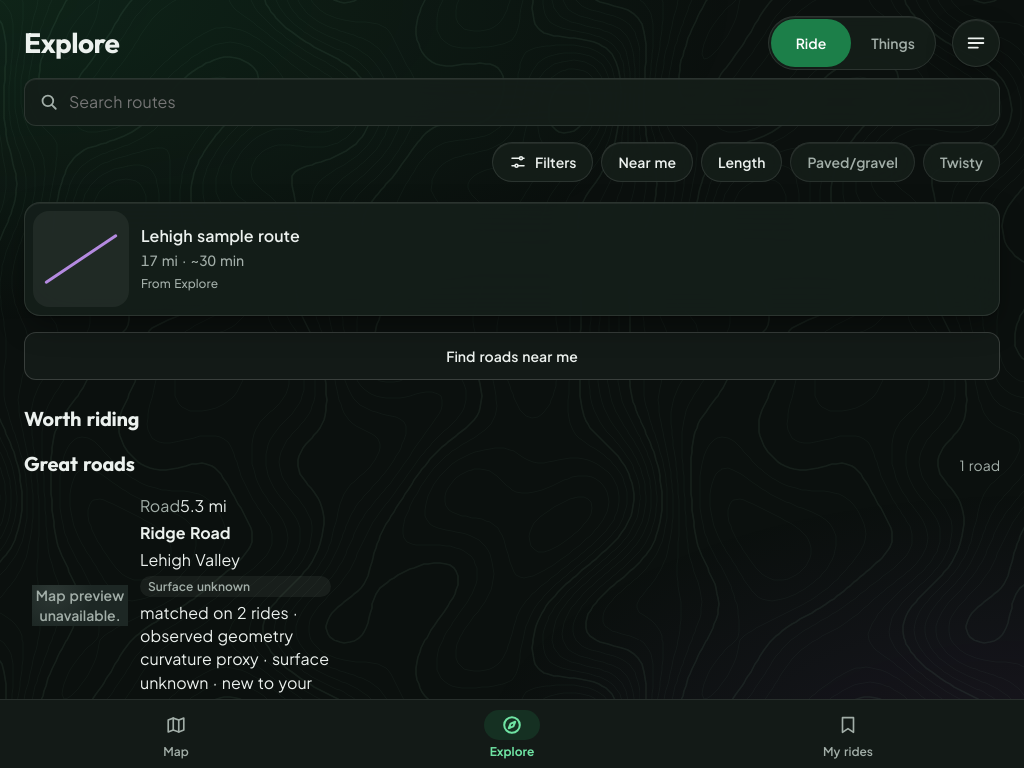
Test case: Explore UI › offers only one place to filter the roads worth riding
The image size is (1024, 768).
Click the button "Filters".
click(543, 162)  # box left=492, top=142, right=594, bottom=182
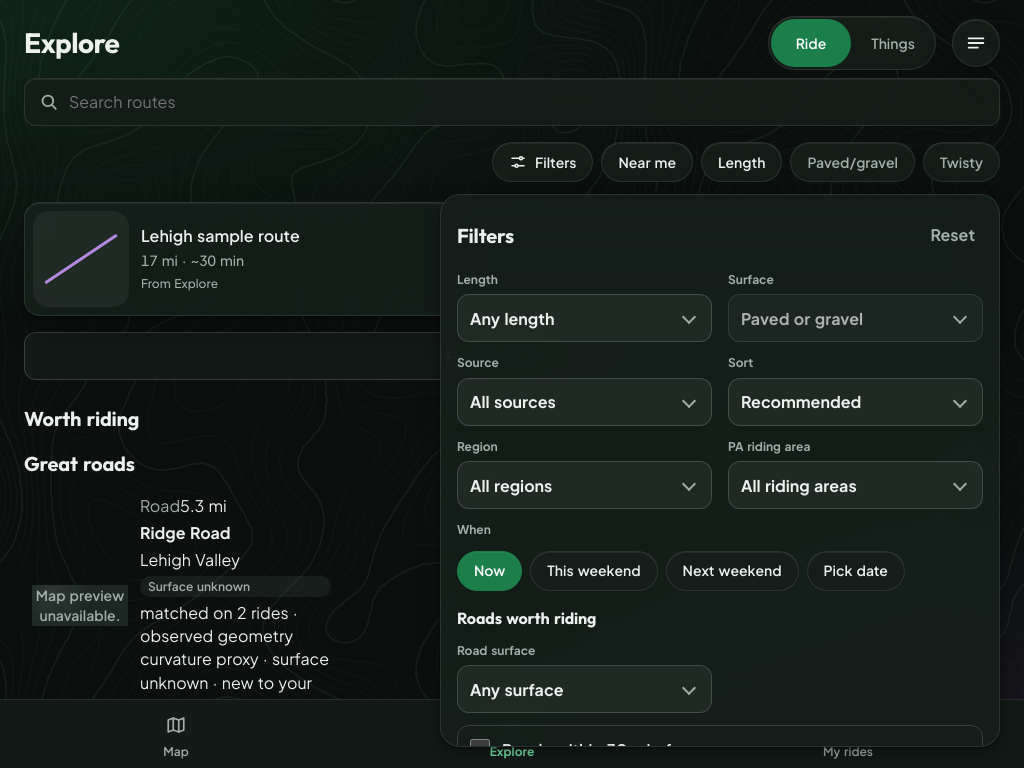
Now the dropdown named "Filter roads by surface" is shown
Select "Gravel" in the dropdown named "Filter roads by surface" at [584, 689], box left=457, top=665, right=712, bottom=713
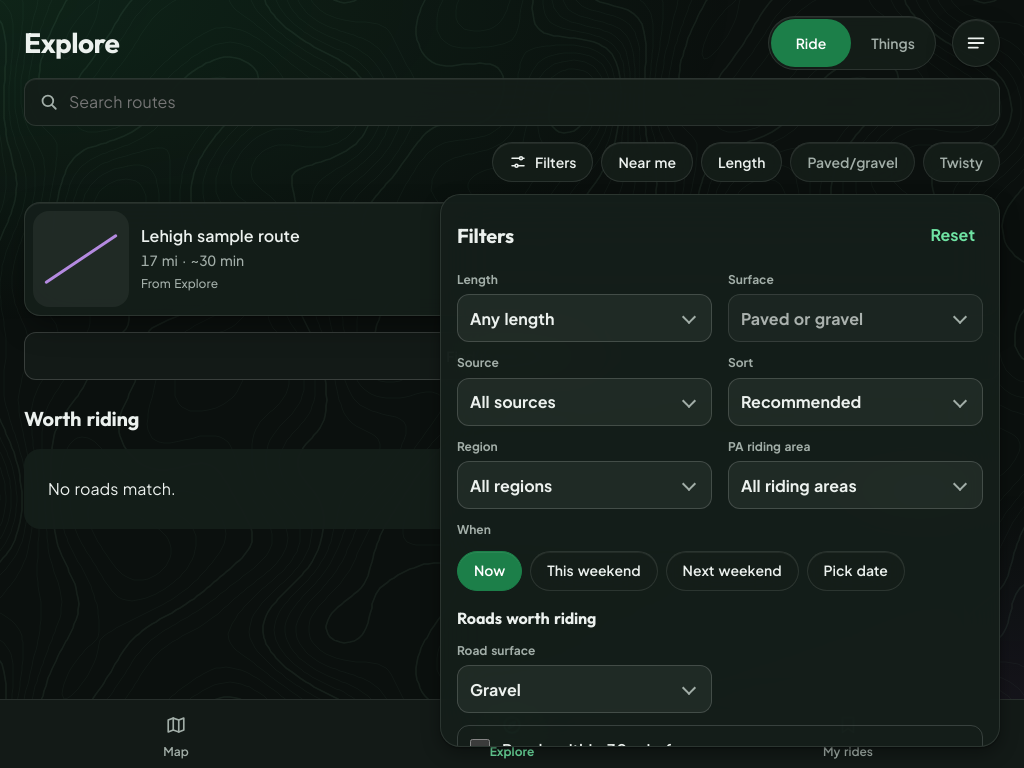
Click the button "Reset".
click(953, 235)  # box left=922, top=211, right=983, bottom=259
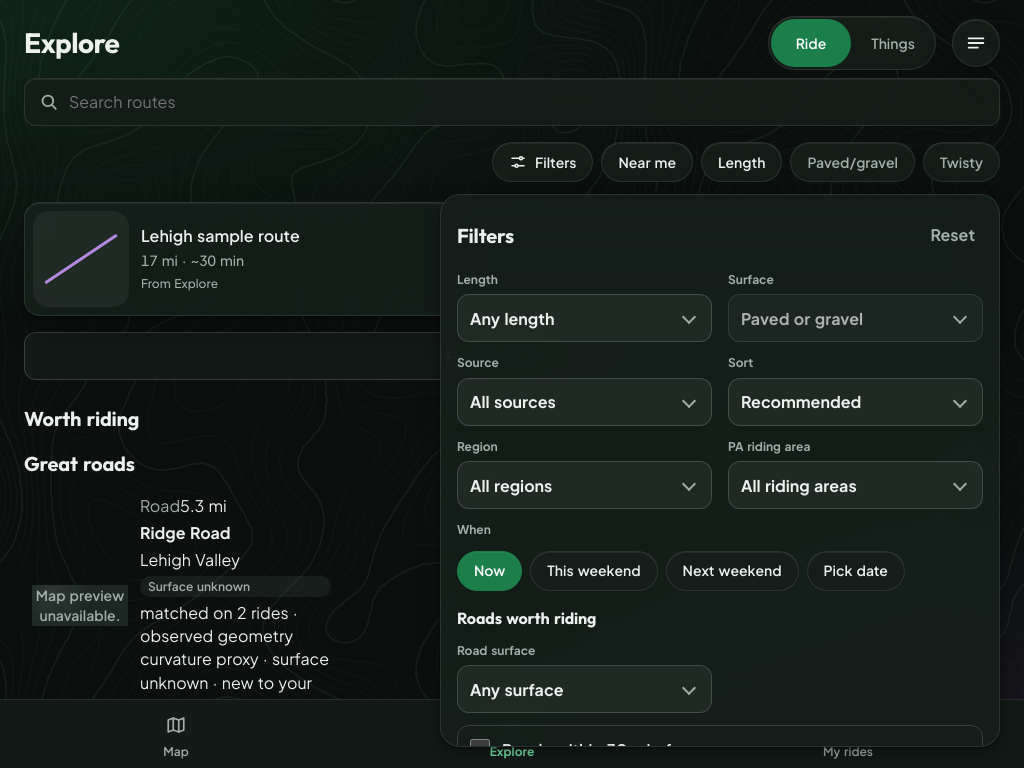
Now the button "Reset" is disabled, box left=922, top=211, right=983, bottom=259
